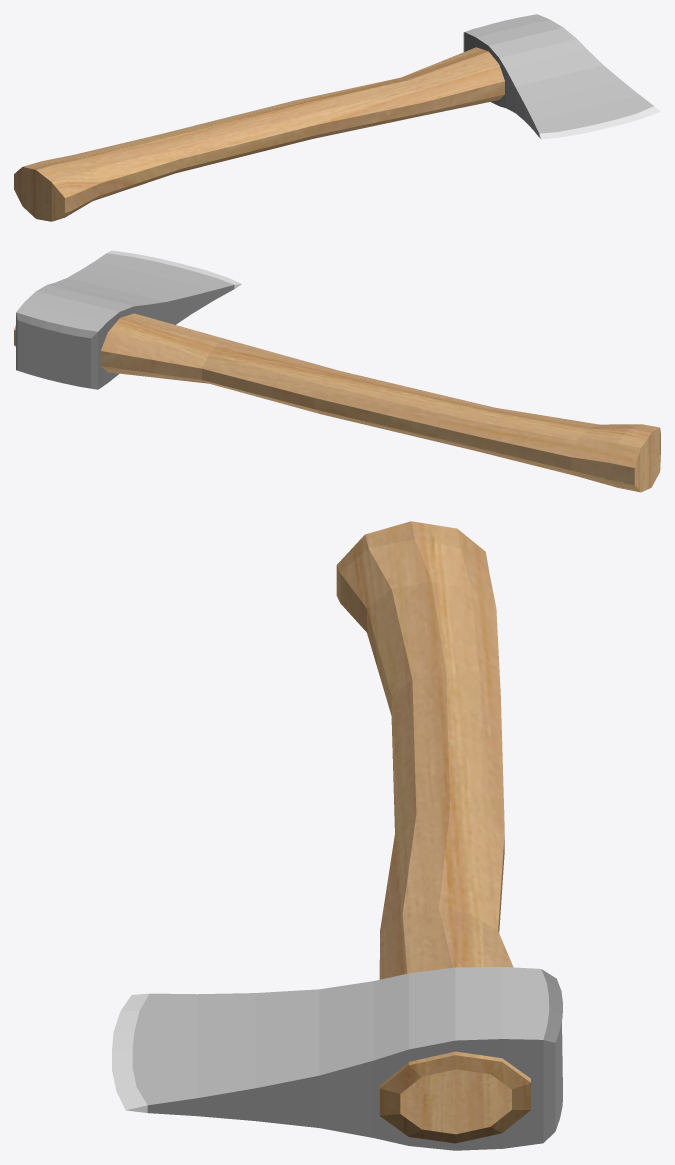
Rendered from WorldItem_Hatchet.fbx.
The picture shows the model from 3 angles, top to bottom: view 1: azimuth 30°, elevation 25°; view 2: azimuth 150°, elevation 25°; view 3: azimuth 270°, elevation 25°; orthographic projection. The views are drawn at different scales.
Parts seen in each view (by area): view 1: ZomboidHatchet; view 2: ZomboidHatchet; view 3: ZomboidHatchet.
Part boxes in pixels (x1,y1,x2,y2): ZomboidHatchet: (14, 14, 660, 221); ZomboidHatchet: (14, 250, 660, 492); ZomboidHatchet: (112, 521, 562, 1150).
Size of the model in its own units: 0.3259 by 0.0308 by 0.1143.
